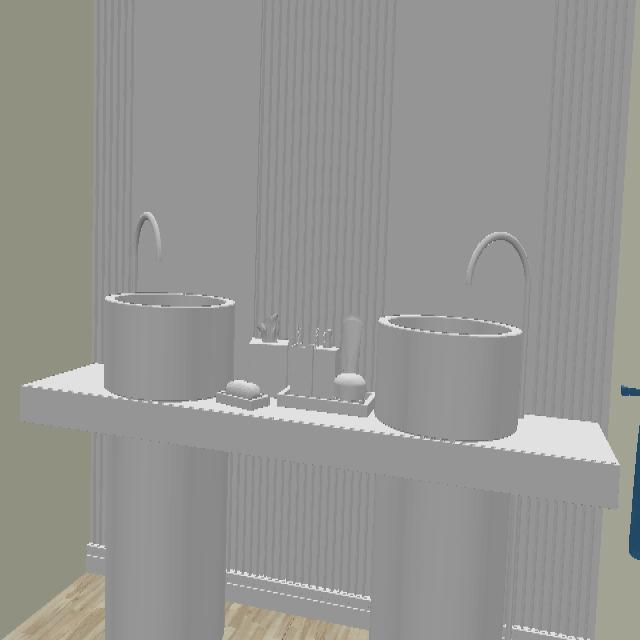washbasin: (371, 312, 528, 443), (101, 291, 235, 403)
